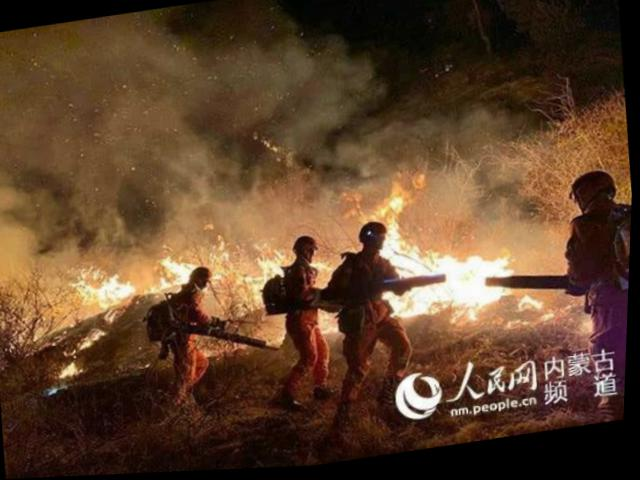fire: (350, 170, 525, 331), (38, 253, 145, 391), (156, 248, 226, 290), (250, 241, 290, 310)
